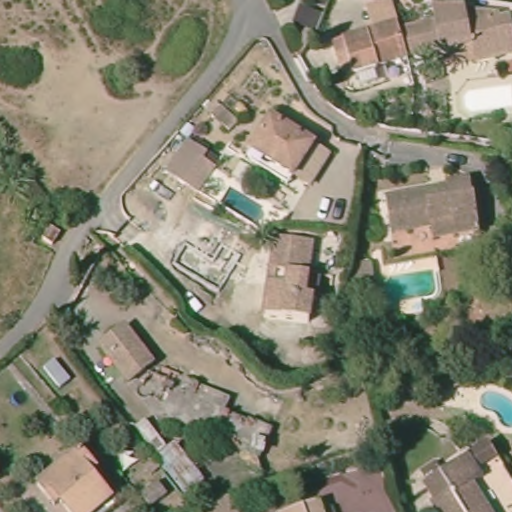pool: (369, 262, 441, 305), (216, 184, 270, 230), (477, 383, 512, 431)
